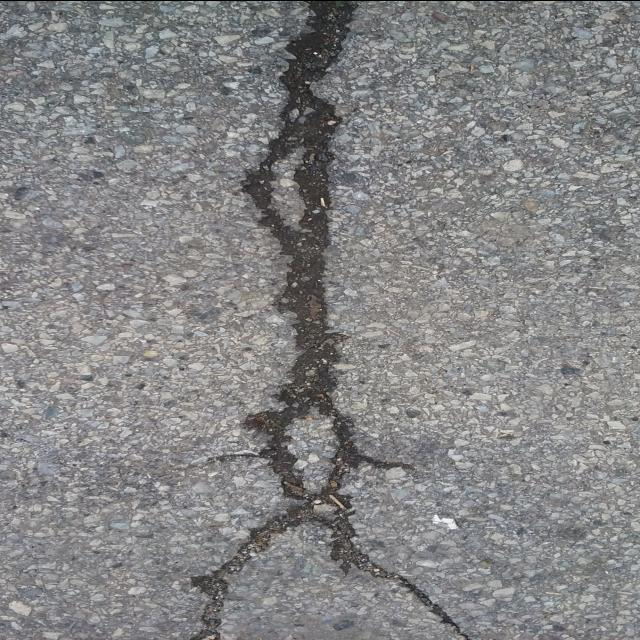Crack: (189, 0, 475, 640)
